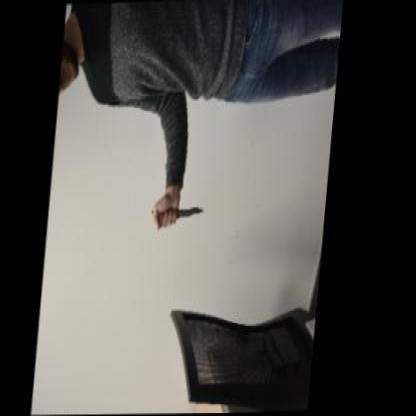knife: (154, 202, 210, 220)
